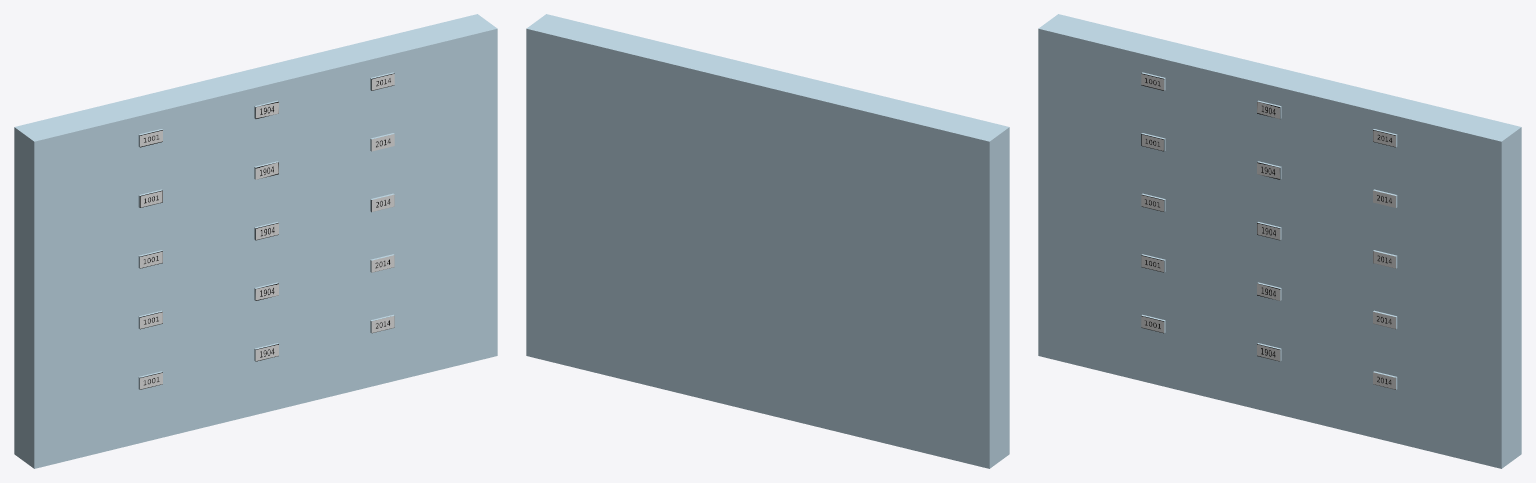
Rendered from number_plate_wall.dae.
The picture shows the model from 3 angles, left to right: view 1: azimuth 30°, elevation 25°; view 2: azimuth 150°, elevation 25°; view 3: azimuth 330°, elevation 25°; orthographic projection.
Parts seen in each view (by area): view 1: mesh5, mesh3, mesh1; view 2: mesh0, mesh3, mesh1; view 3: mesh5, mesh3, mesh2.
Part boxes in pixels (x1=…): mesh5: x1=34, y1=28, x2=497, y2=468; mesh3: x1=14, y1=14, x2=496, y2=141; mesh1: x1=14, y1=127, x2=34, y2=468; mesh0: x1=526, y1=28, x2=989, y2=468; mesh3: x1=527, y1=14, x2=1009, y2=141; mesh1: x1=989, y1=127, x2=1009, y2=468; mesh5: x1=1038, y1=28, x2=1501, y2=468; mesh3: x1=1039, y1=14, x2=1521, y2=141; mesh2: x1=1501, y1=127, x2=1521, y2=468.
Size of the model in its own units: 4 by 0.32 by 2.7.
Materials: 4 (3 with a texture image).
